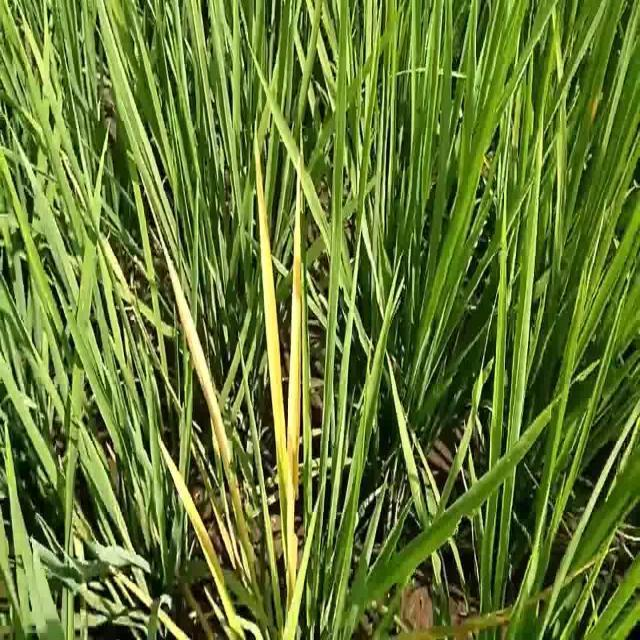Rice Tungro: (156, 228, 234, 472), (154, 427, 243, 640), (251, 117, 289, 494), (286, 155, 308, 514), (280, 496, 322, 640)
